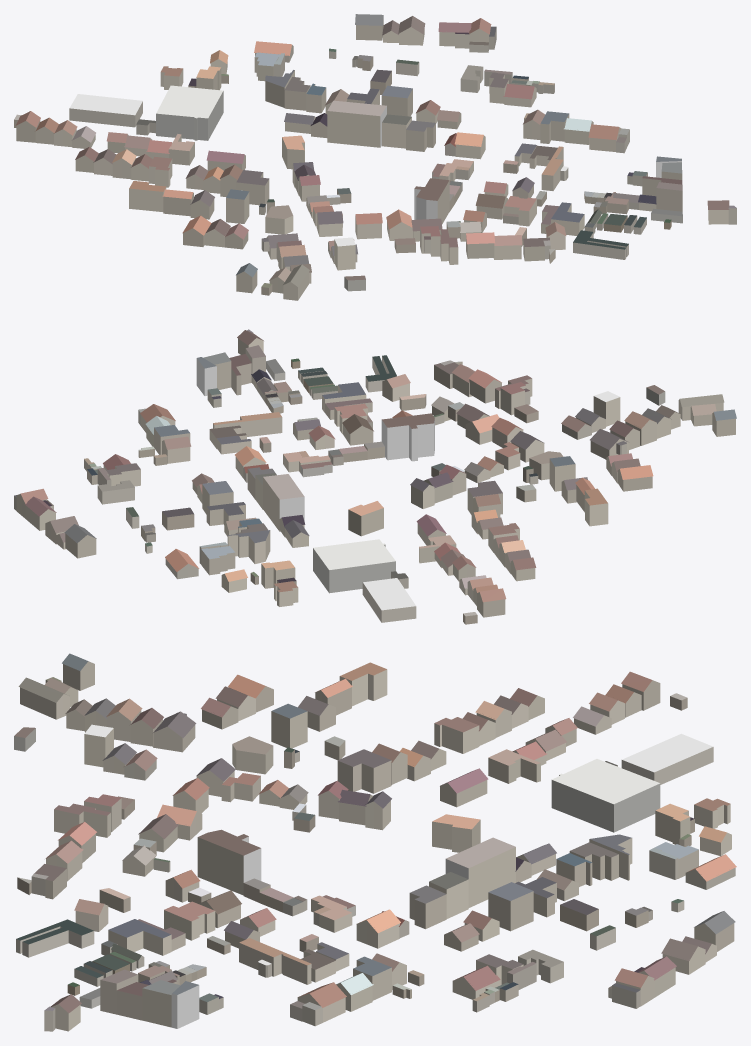
3 views of the same model, one above another, from view 1: azimuth 30°, elevation 25°; view 2: azimuth 150°, elevation 25°; view 3: azimuth 270°, elevation 25° (orthographic). The views are drawn at different scales.
Parts seen in each view (by area): view 1: tuile; view 2: tuile; view 3: tuile.
Part boxes in pixels (x1,y1,x2,y2): tuile: (14,14,736,300); tuile: (14,329,736,624); tuile: (14,653,736,1031).
Size of the model in its own units: 253 by 31.39 by 256.
